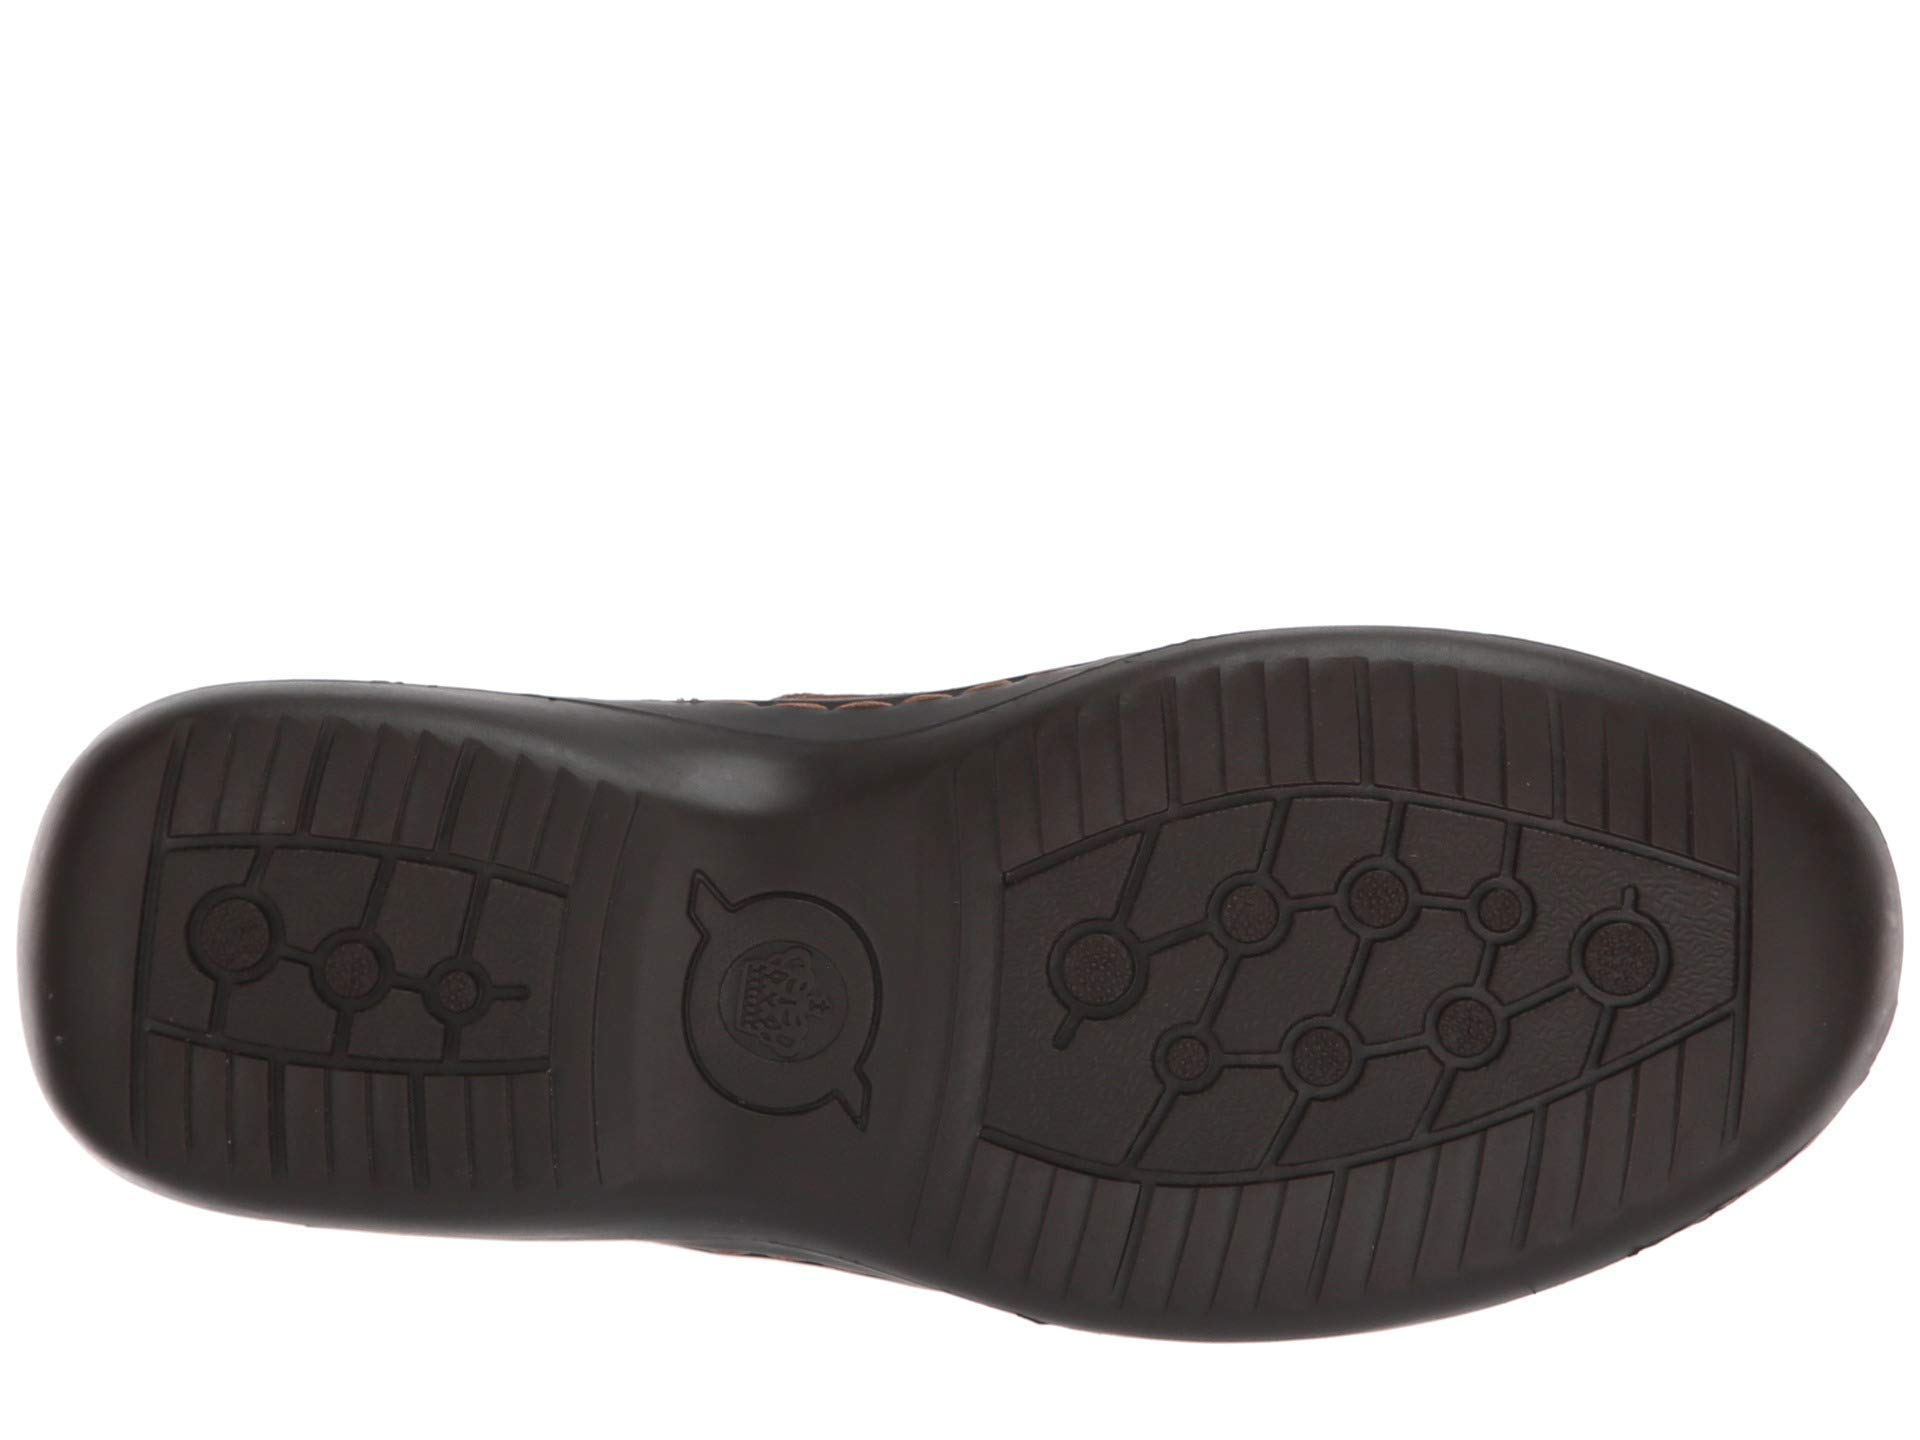circle: (1010, 867, 1714, 1113), (163, 870, 552, 1057), (708, 932, 854, 1086)
quad: (1414, 652, 1757, 892), (107, 1035, 571, 1209), (962, 1130, 1364, 1327), (160, 718, 624, 879), (1179, 647, 1391, 803)
